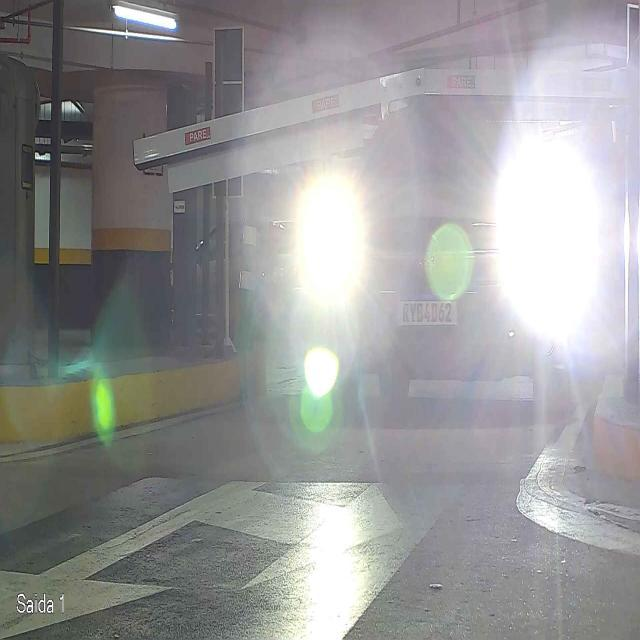mercosul_plate: (396, 289, 460, 327)
